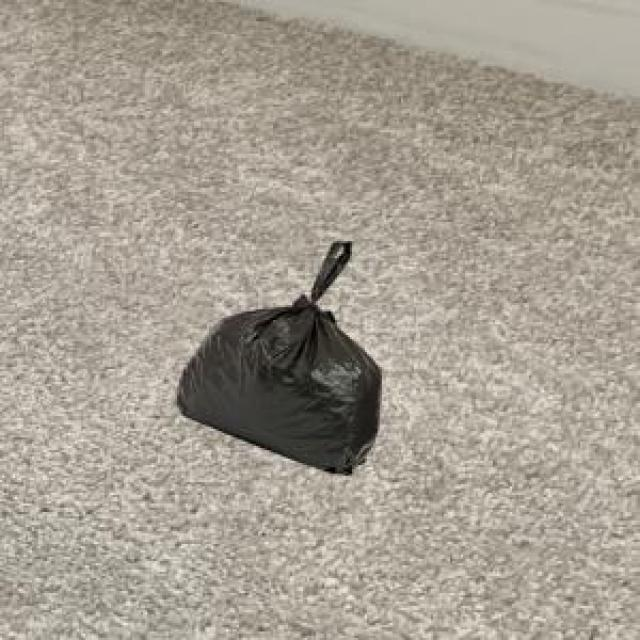miscellaneous trash: (173, 239, 378, 472)
